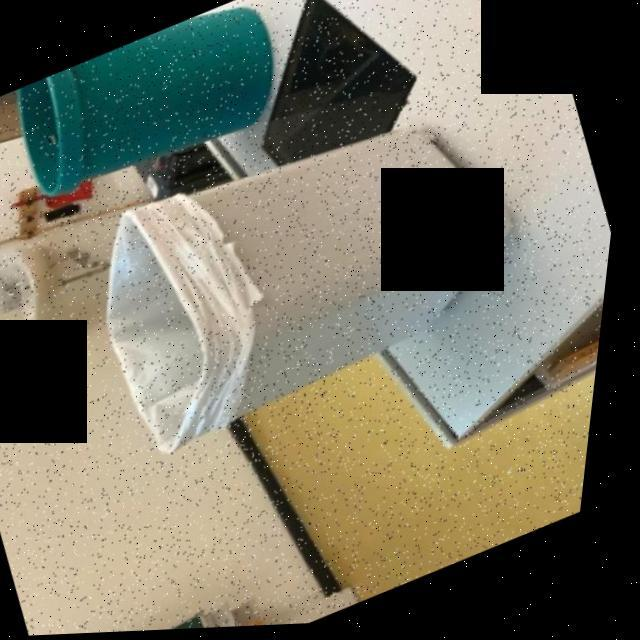bin: (42, 51, 589, 506), (0, 0, 322, 225)
